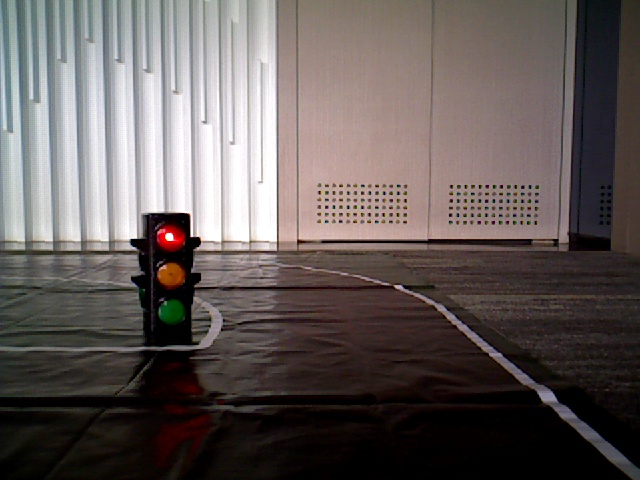red: (141, 216, 190, 329)
